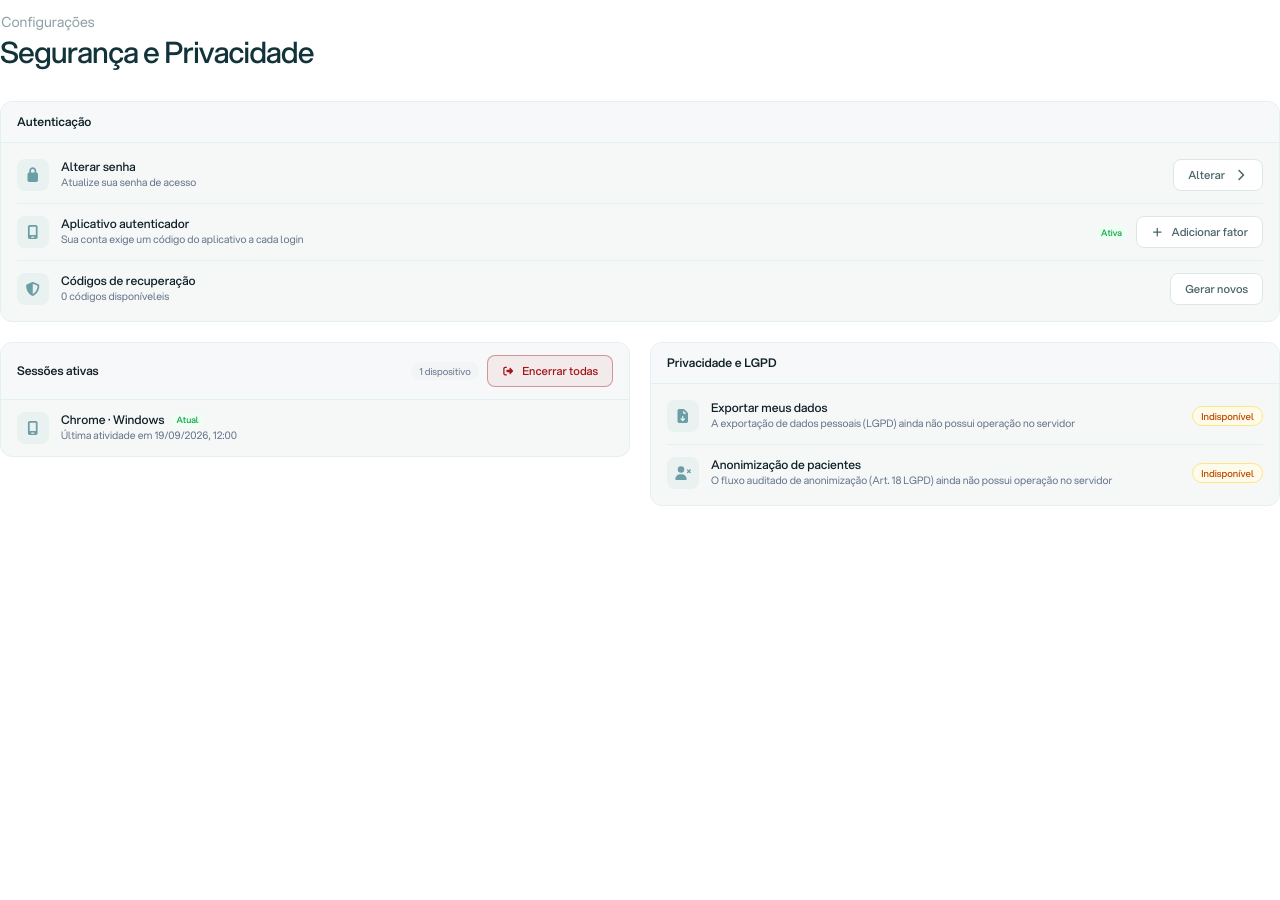
Test case: segurança: alterar senha › envia a troca ao servidor e mostra sucesso somente após 2xx
Click the button "Alterar" at (1218, 175), box x1=1173 y1=159 x2=1263 y2=191
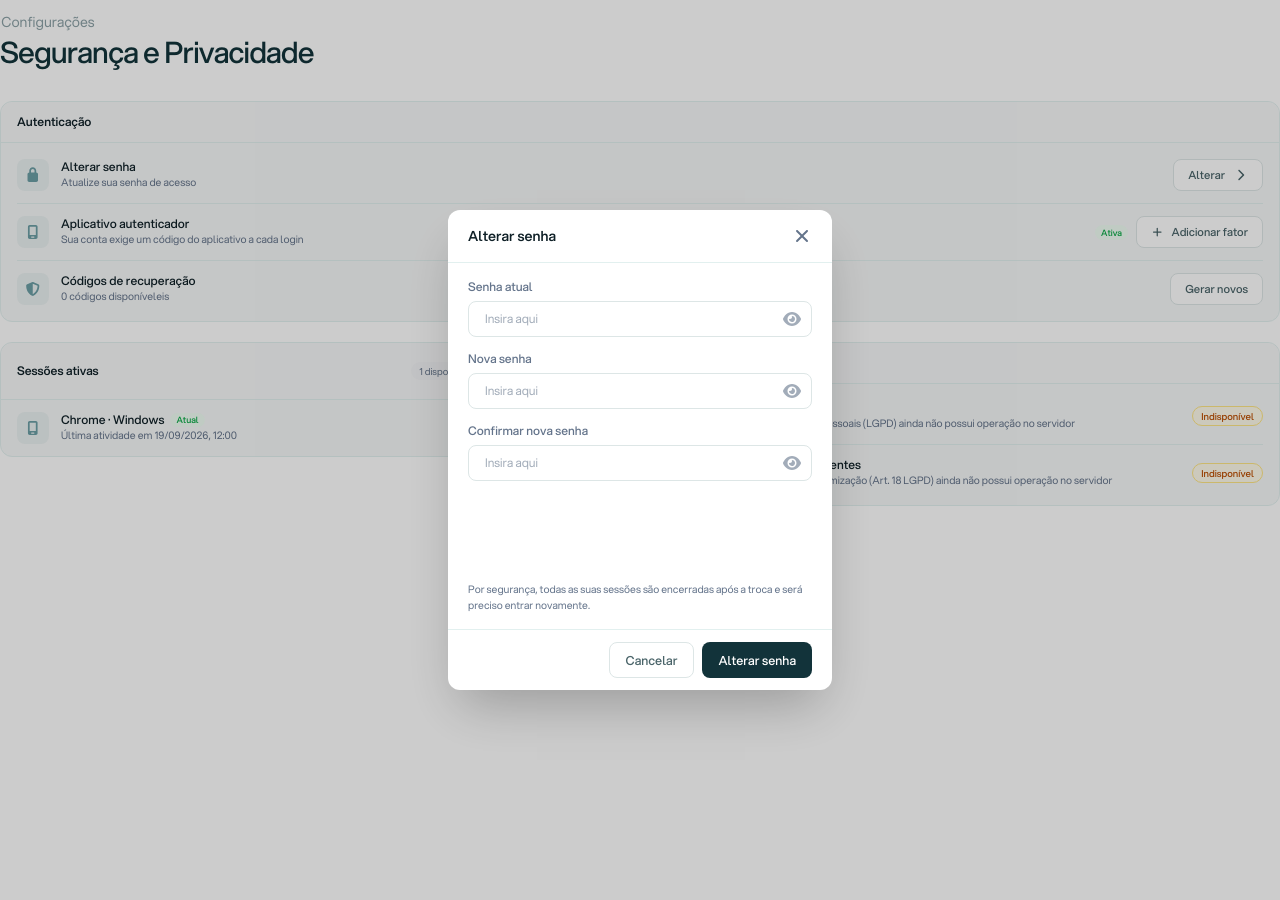
Type "SenhaAtual#1" into the 1st password field with placeholder "Insira aqui" at (640, 319), box x1=468 y1=301 x2=812 y2=337
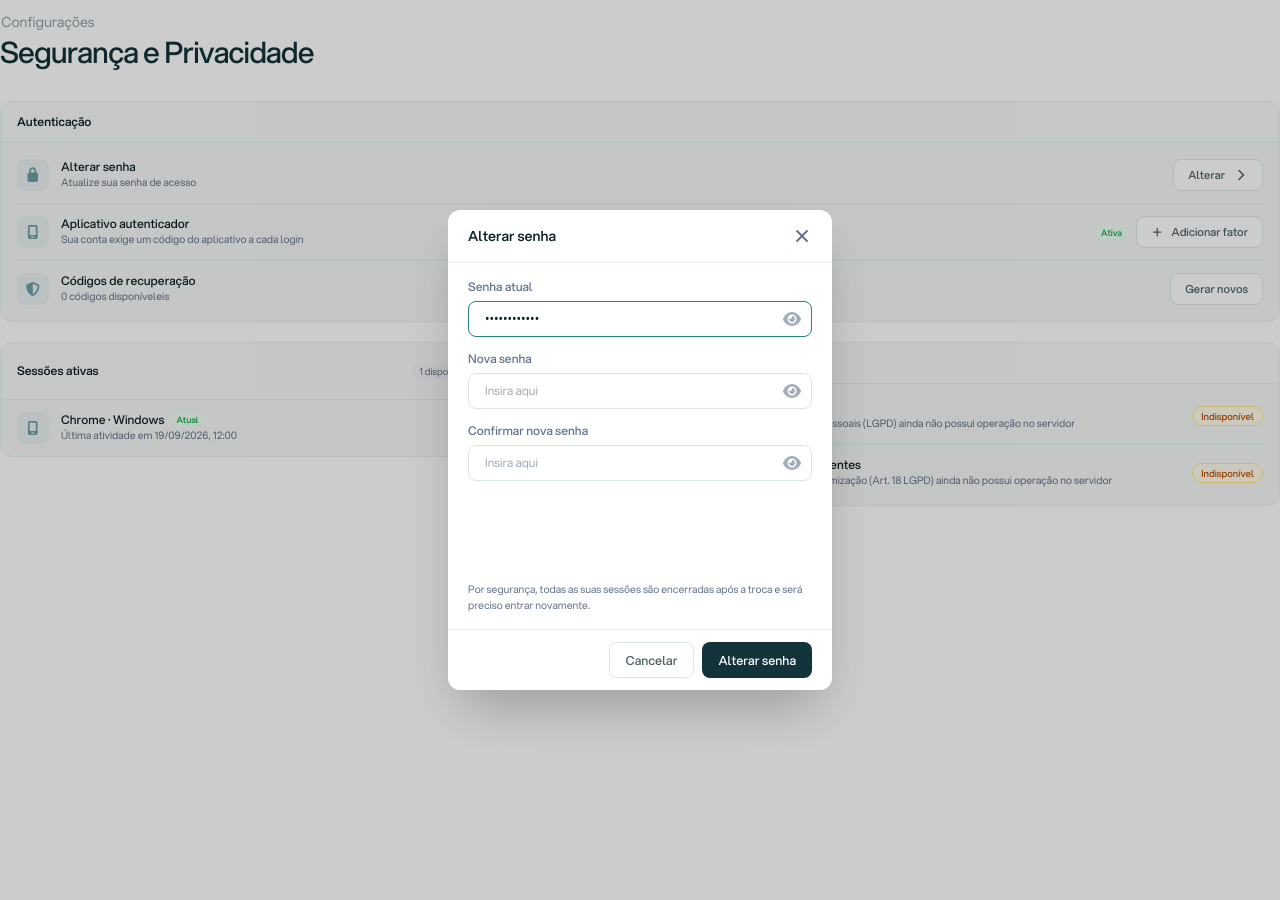
Type "NovaSenha#123" into the 1st password field with placeholder "Insira aqui" at (640, 391), box x1=468 y1=373 x2=812 y2=409
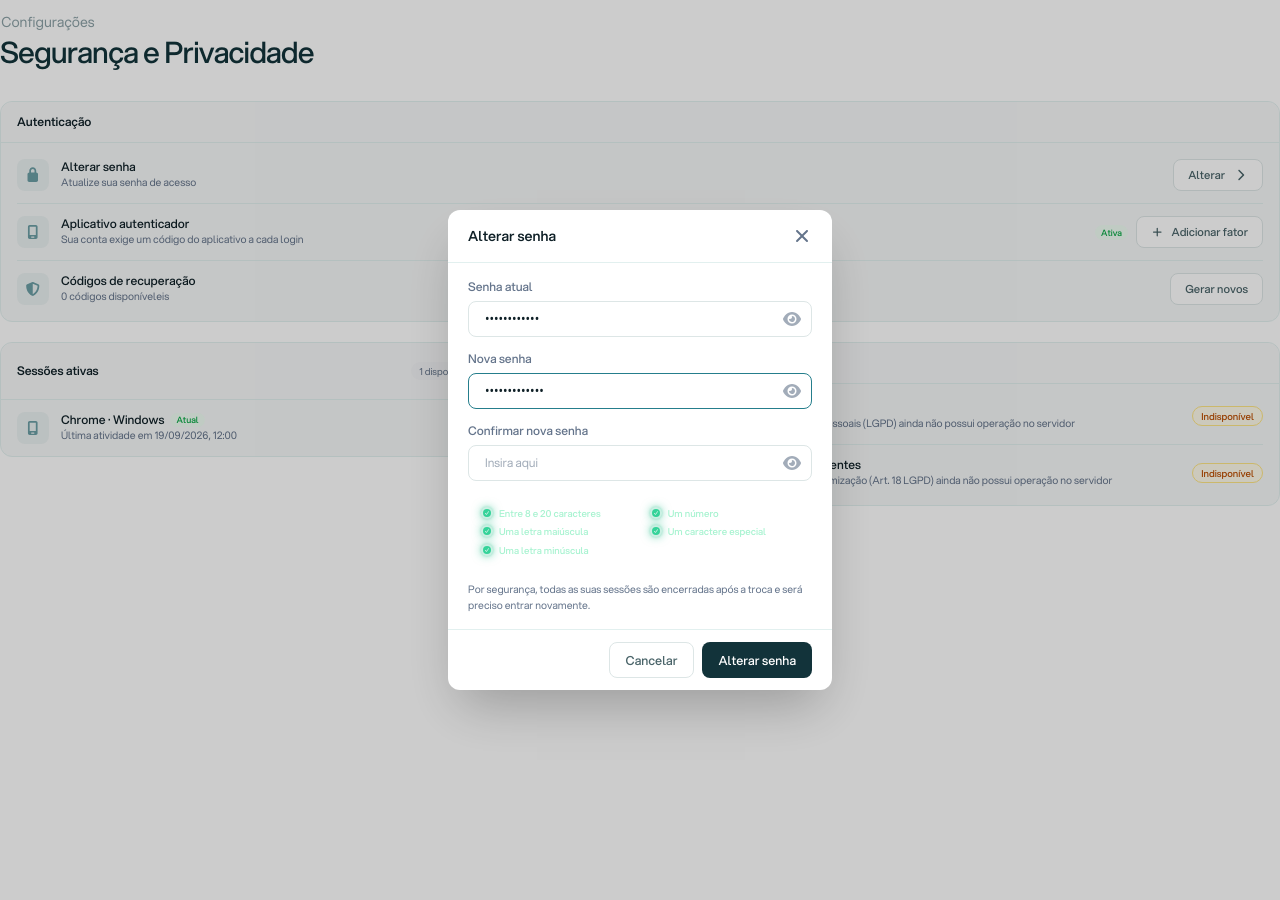
Type "NovaSenha#123" into the password field with placeholder "Insira aqui" at (640, 463), box x1=468 y1=445 x2=812 y2=481
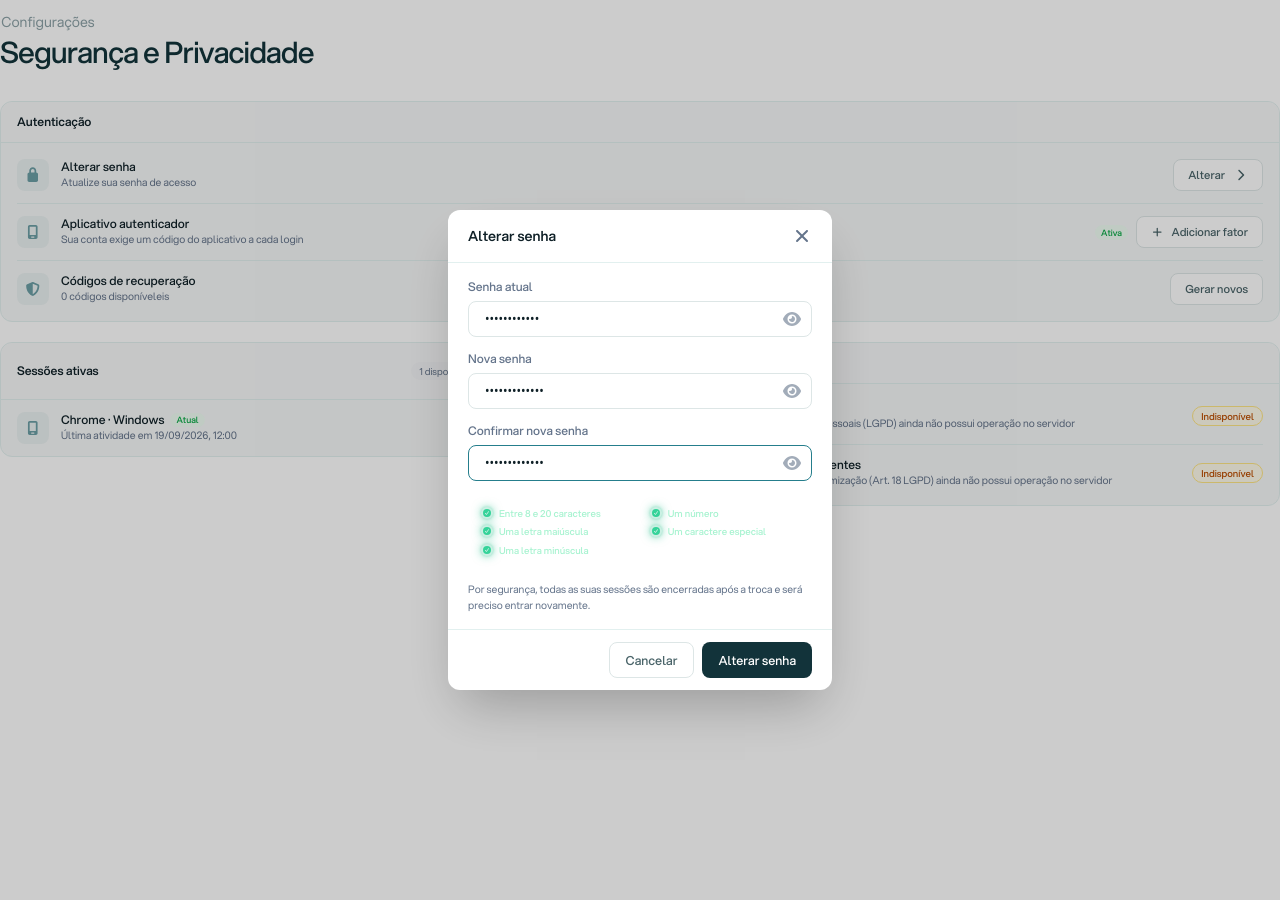
Click the button "Alterar senha" at (757, 660), box x1=702 y1=642 x2=812 y2=678
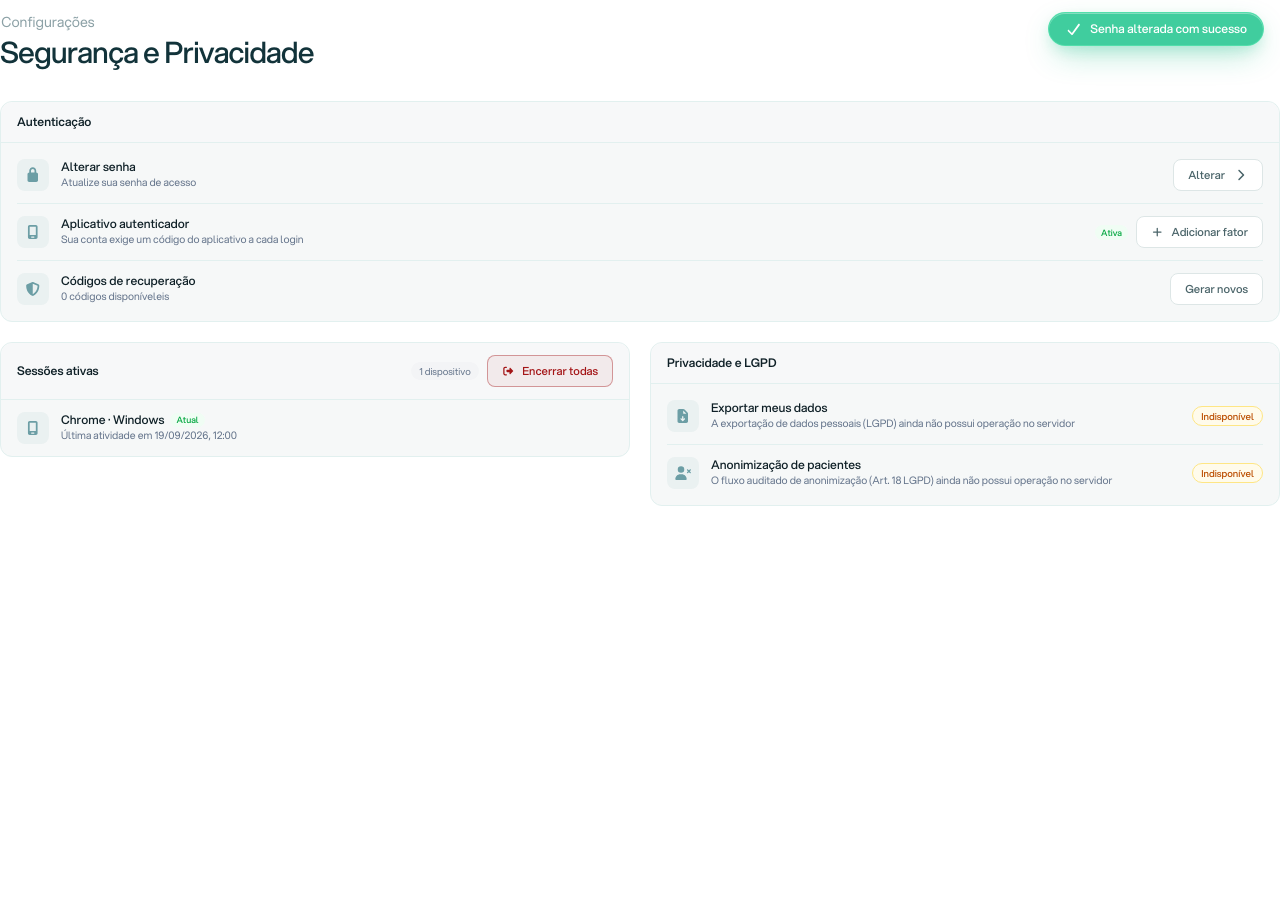
expect the text "Senha alterada com sucesso" is shown: met, box x1=1090 y1=21 x2=1247 y2=37
